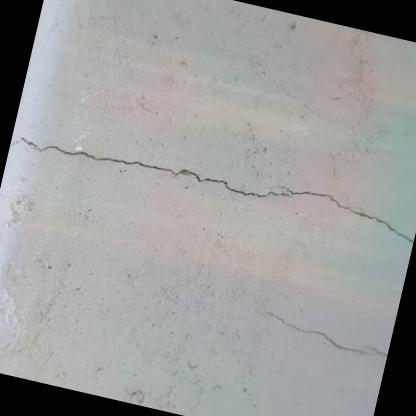crack: (9, 135, 414, 243)
